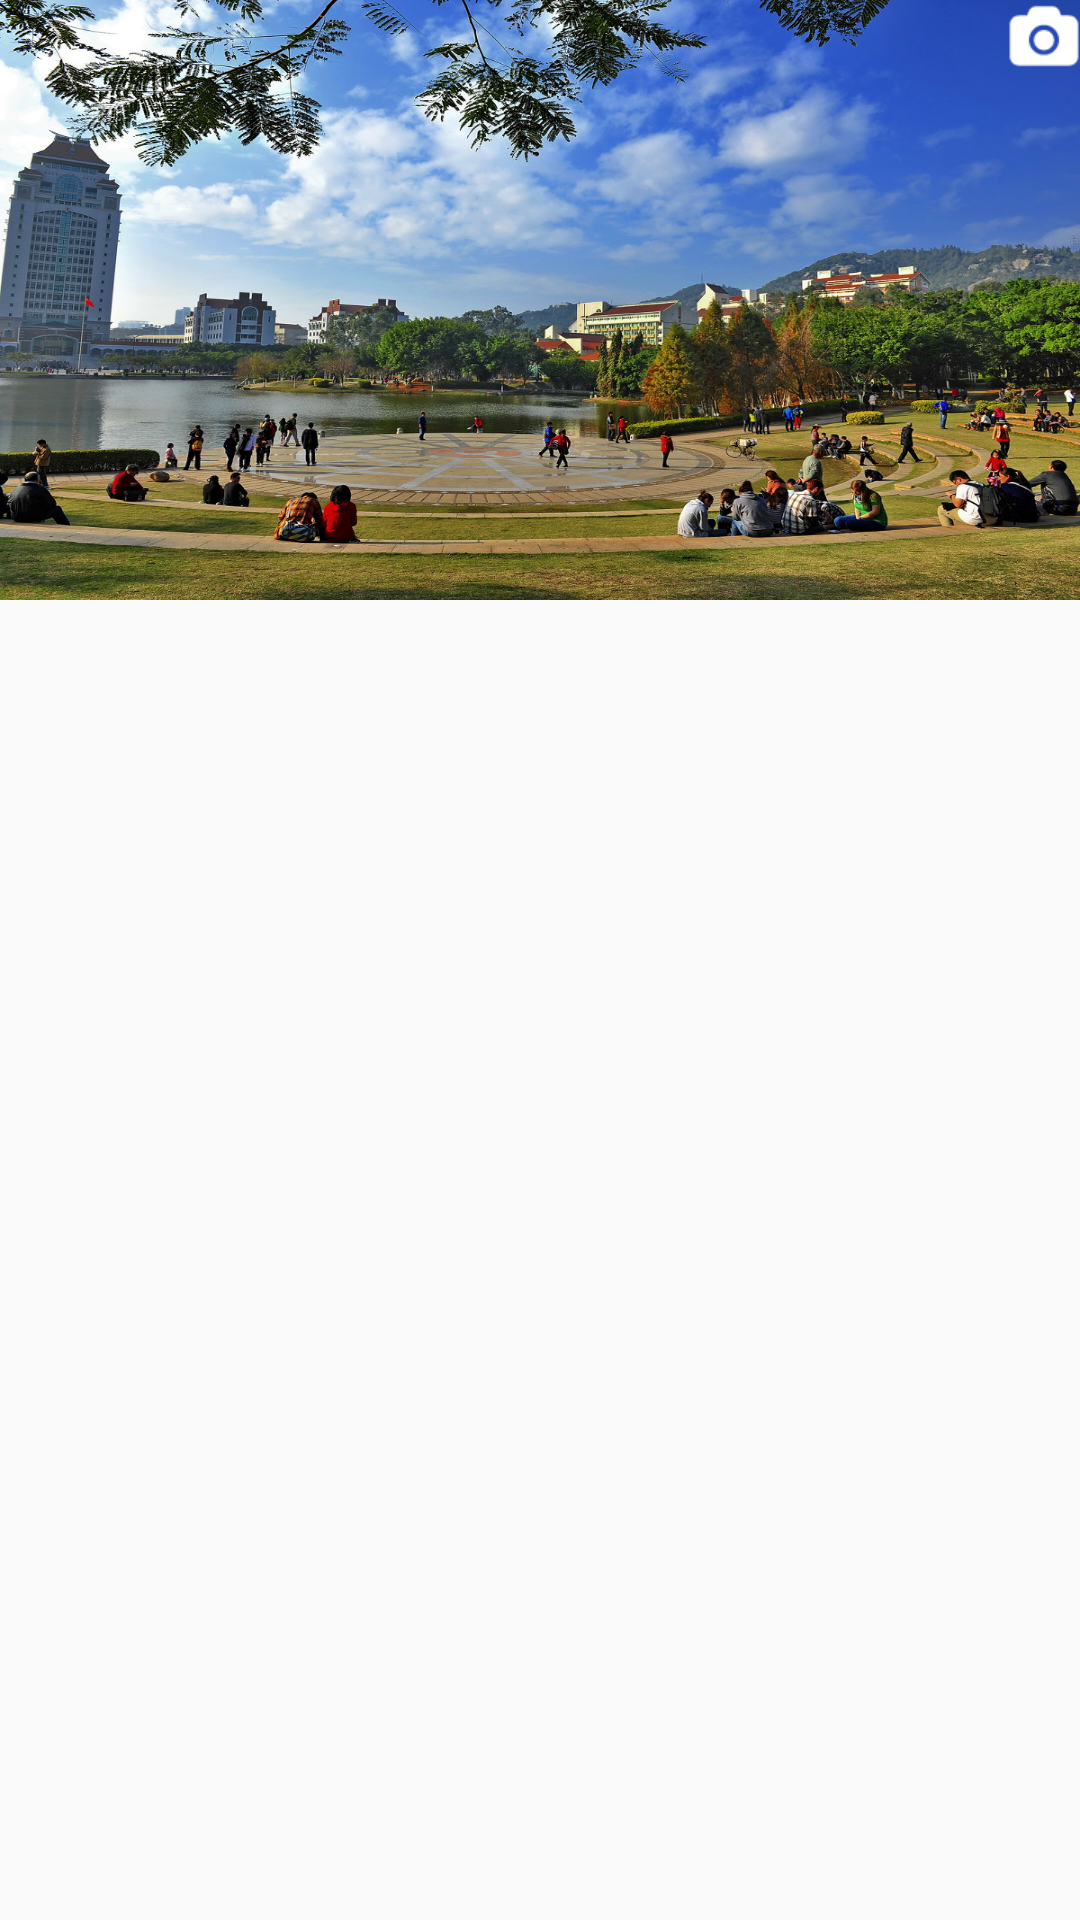

Icons on this 1080×1920 Android screen, each with the point to tap as (x,y):
camera: (1044,36)
